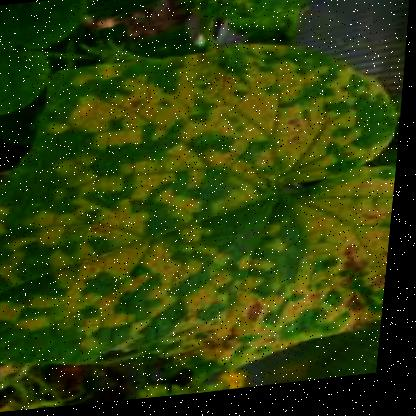DownyMildew: (0, 60, 408, 357)
